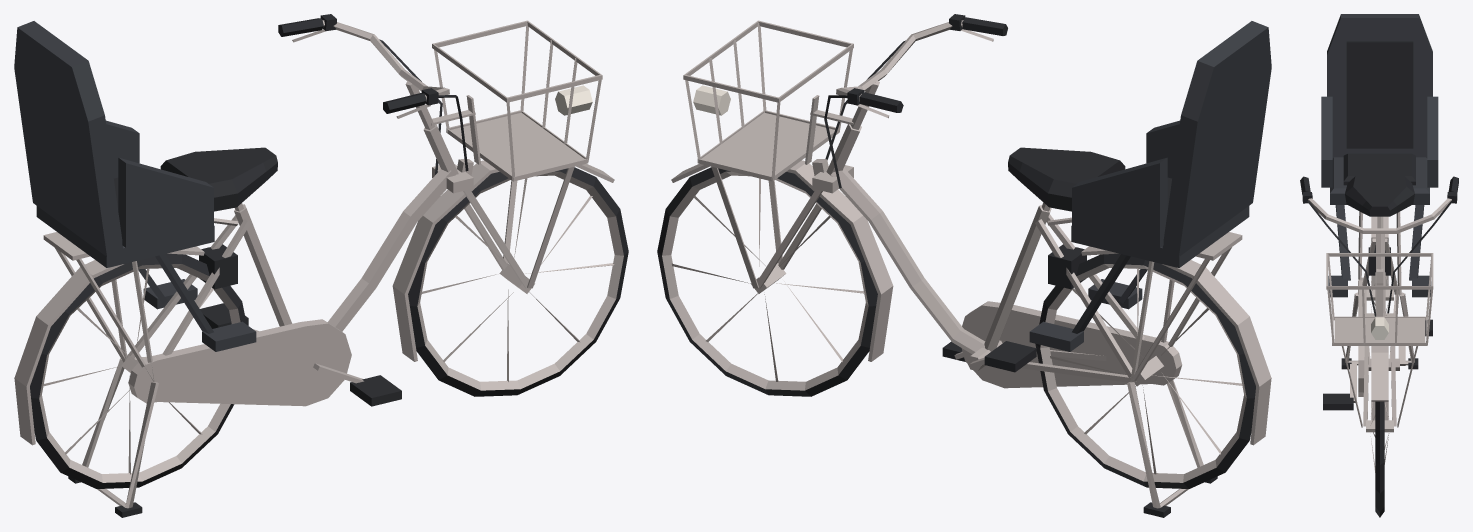
File: SM_Street_Bicycle_Child_Silver_01.gltf
3 renders of one model, left to right at view 1: azimuth 30°, elevation 25°; view 2: azimuth 150°, elevation 25°; view 3: azimuth 270°, elevation 25°, orthographic. The views are drawn at different scales.
Visible parts, largest first — view 1: SM_Street_Bicycle_Child_Silver_01; view 2: SM_Street_Bicycle_Child_Silver_01; view 3: SM_Street_Bicycle_Child_Silver_01.
Boxes of the visible parts, left/top/right/bottom form: SM_Street_Bicycle_Child_Silver_01: left=14, top=14, right=628, bottom=517; SM_Street_Bicycle_Child_Silver_01: left=657, top=14, right=1271, bottom=517; SM_Street_Bicycle_Child_Silver_01: left=1300, top=14, right=1458, bottom=517.
Bounding box in the file's own units: 1.8 × 1.32 × 0.5707.
1 material, 1 textured.
